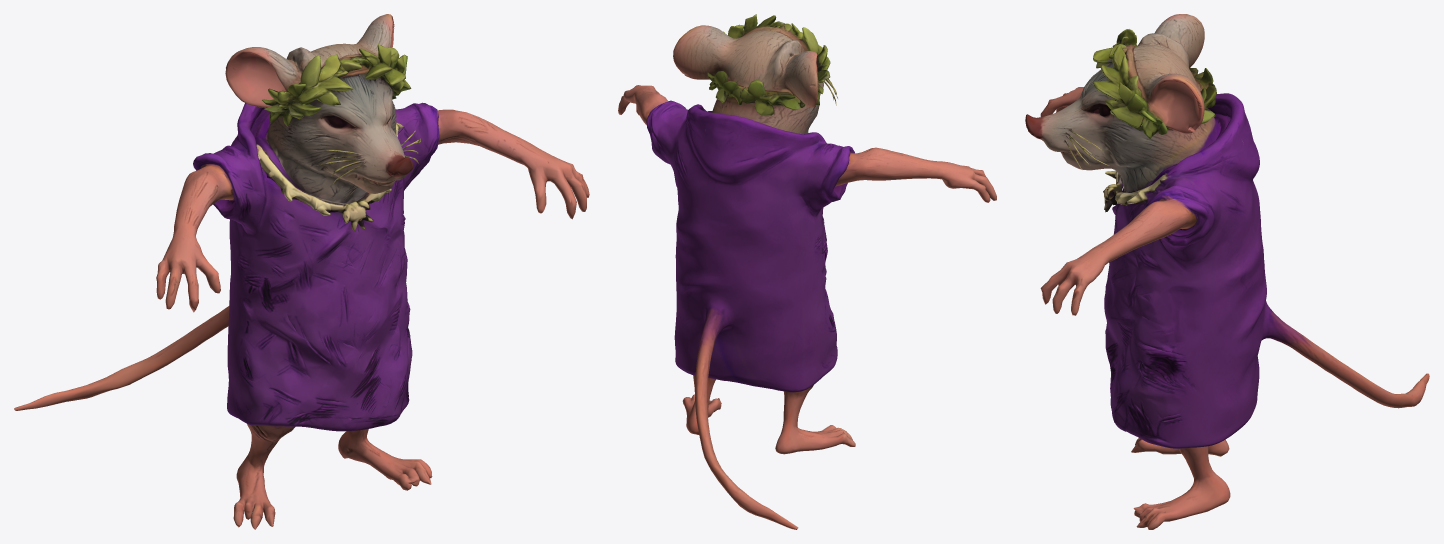
Rendered from the_rat_senate_speaker.glb.
3 renders of one model, left to right at view 1: azimuth 30°, elevation 25°; view 2: azimuth 150°, elevation 25°; view 3: azimuth 270°, elevation 25°, orthographic. The views are drawn at different scales.
Visible parts, largest first — view 1: tripo_node_41a2297d-7a5f-4bc2-9d30-d750f001455f; view 2: tripo_node_41a2297d-7a5f-4bc2-9d30-d750f001455f; view 3: tripo_node_41a2297d-7a5f-4bc2-9d30-d750f001455f.
Boxes of the visible parts, bbox=[...] form: tripo_node_41a2297d-7a5f-4bc2-9d30-d750f001455f: bbox=[14, 14, 589, 529]; tripo_node_41a2297d-7a5f-4bc2-9d30-d750f001455f: bbox=[618, 14, 996, 529]; tripo_node_41a2297d-7a5f-4bc2-9d30-d750f001455f: bbox=[1025, 14, 1429, 529].
Bounding box in the file's own units: 0.955 × 0.9809 × 0.8055.
1 material, 1 textured.
